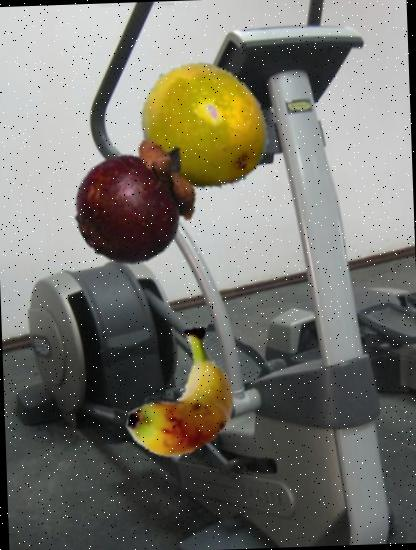Banana: (115, 335, 242, 461)
Mangostan: (71, 136, 206, 270)
Maracuja: (130, 60, 270, 199)
